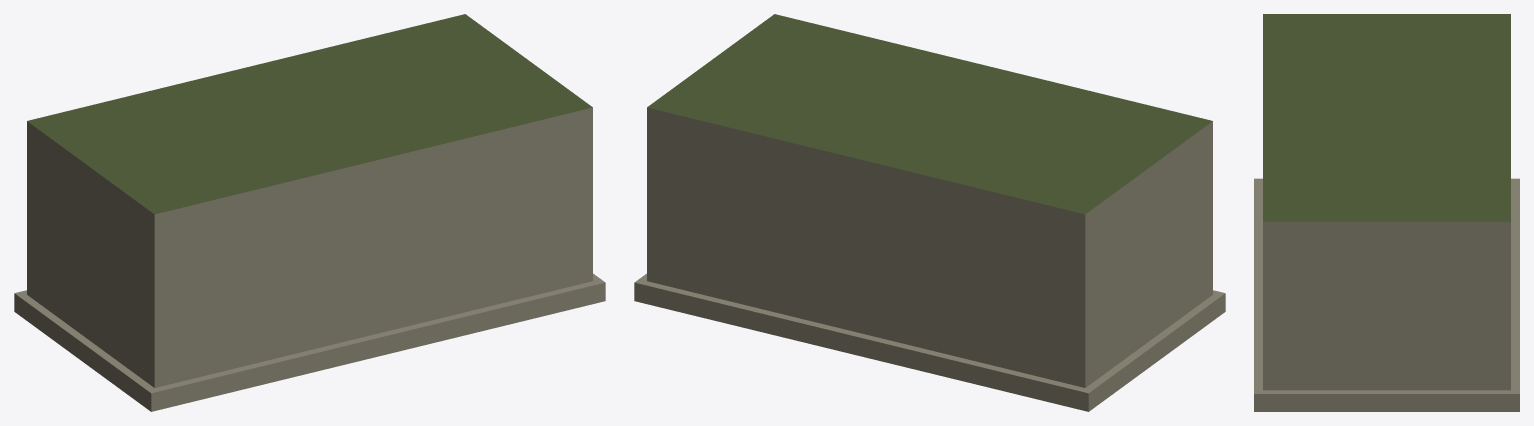
File: ruin-arcade-a.tone-v1.lod2.glb
3 renders of one model, left to right at view 1: azimuth 30°, elevation 25°; view 2: azimuth 150°, elevation 25°; view 3: azimuth 270°, elevation 25°, orthographic. The views are drawn at different scales.
Parts seen in each view (by area): view 1: ruin-arcade-a; view 2: ruin-arcade-a; view 3: ruin-arcade-a.
Part boxes in pixels (x1=…): ruin-arcade-a: x1=14, y1=14, x2=605, y2=411; ruin-arcade-a: x1=634, y1=14, x2=1225, y2=411; ruin-arcade-a: x1=1254, y1=14, x2=1519, y2=411.
Bounding box in the file's own units: 23 × 9.3 × 12.
